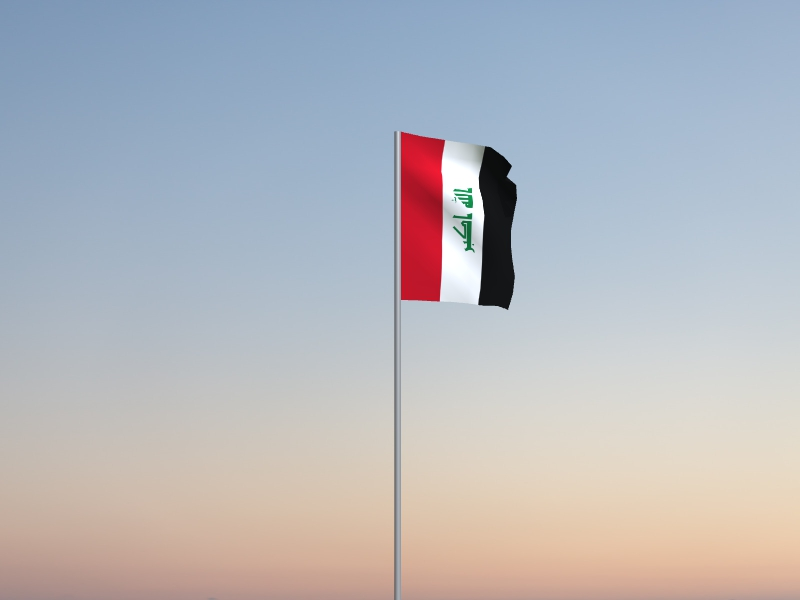iq: (402, 132, 518, 311)
